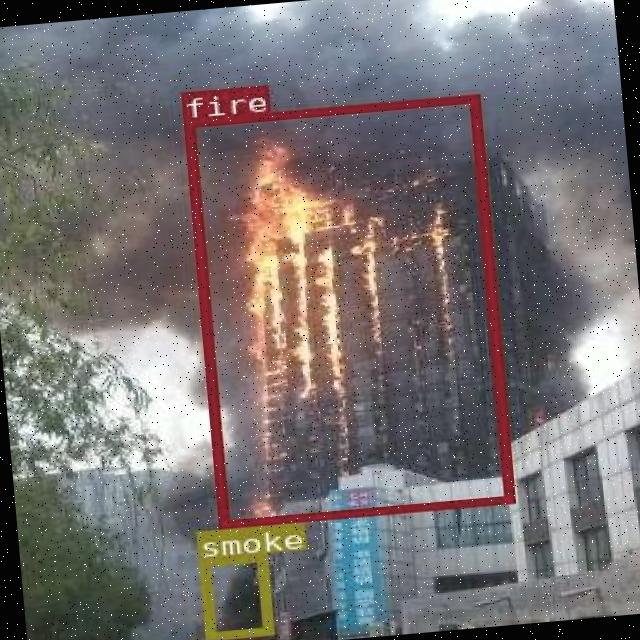fire: (181, 93, 511, 526)
smoke: (197, 552, 271, 639)
